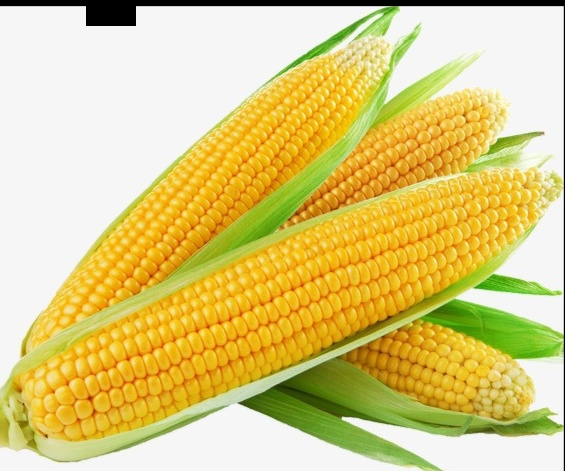corn: (13, 162, 553, 442), (30, 23, 389, 349)
